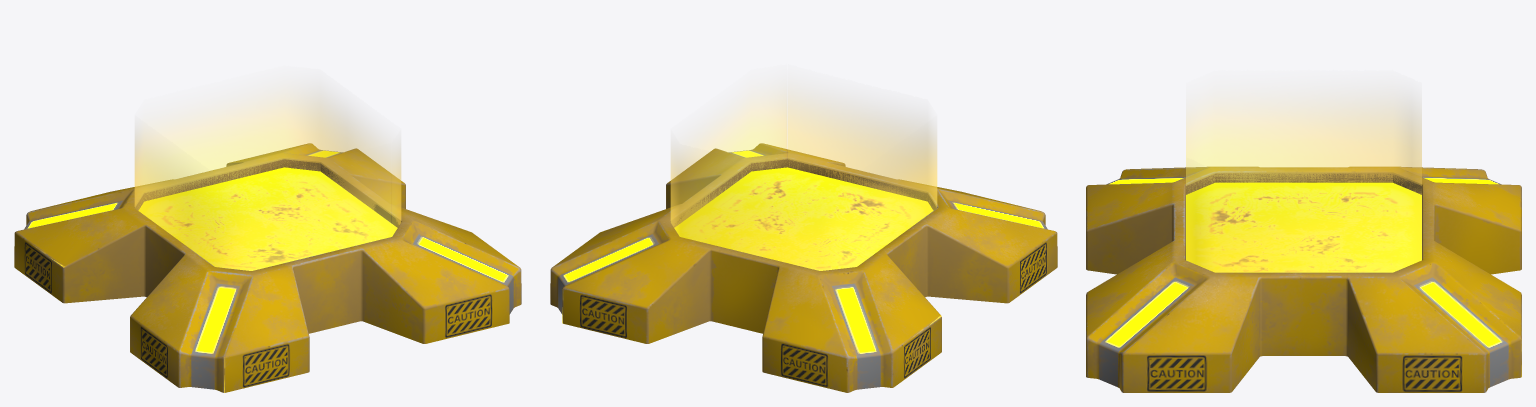
File: sm_jumppad.glb
3 views of the same model, side by side, from view 1: azimuth 30°, elevation 25°; view 2: azimuth 150°, elevation 25°; view 3: azimuth 270°, elevation 25° (orthographic). The views are drawn at different scales.
Parts seen in each view (by area): view 1: JumpPad, JumpPadBeam; view 2: JumpPad, JumpPadBeam; view 3: JumpPad, JumpPadBeam.
Boxes of the visible parts, x1,y1,x2,y2 form: JumpPad: (14, 143, 521, 392); JumpPadBeam: (134, 89, 401, 270); JumpPad: (550, 143, 1057, 392); JumpPadBeam: (670, 89, 937, 270); JumpPad: (1086, 166, 1521, 392); JumpPadBeam: (1186, 97, 1421, 272).
Size of the model in its own units: 1 by 0.6 by 1.
Materials: 2 (2 with a texture image).
